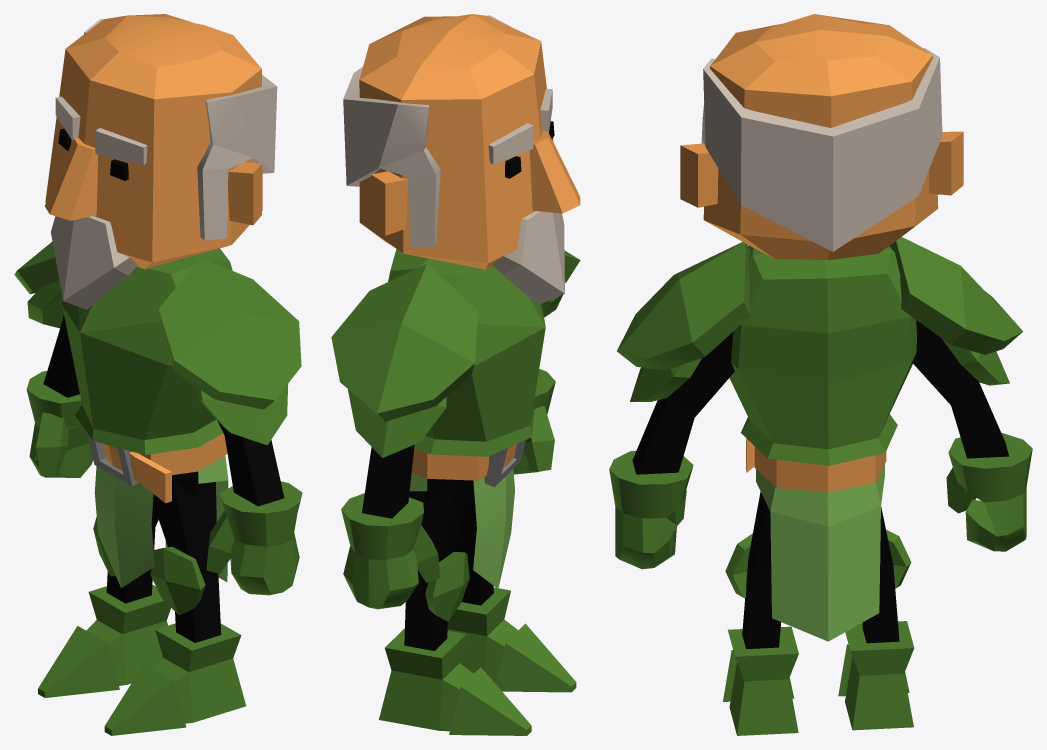
File: npc3.glb
3 views of the same model, side by side, from view 1: azimuth 30°, elevation 25°; view 2: azimuth 150°, elevation 25°; view 3: azimuth 270°, elevation 25° (orthographic). The views are drawn at different scales.
Parts seen in each view (by area): view 1: npc3; view 2: npc3; view 3: npc3.
Part boxes in pixels (<box>): npc3: <box>14,14,302,735</box>; npc3: <box>331,14,580,735</box>; npc3: <box>609,14,1032,735</box>.
Bounding box in the file's own units: 0.5512 × 1.64 × 0.919.
1 material, 1 textured.
